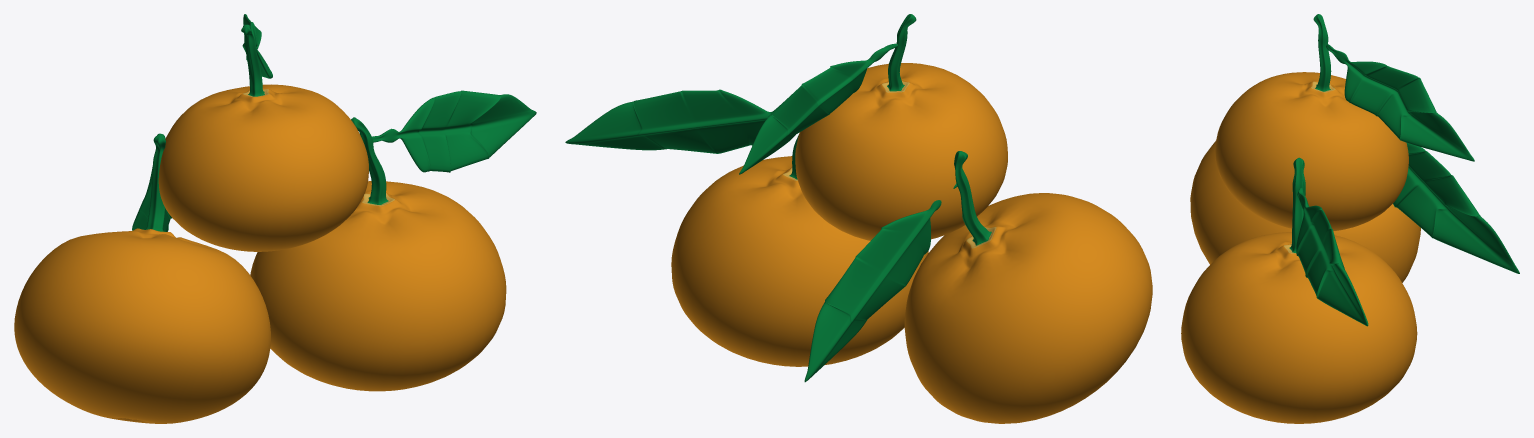
The model's file is kudamono.fbx.
The picture shows the model from 3 angles, left to right: view 1: azimuth 30°, elevation 25°; view 2: azimuth 150°, elevation 25°; view 3: azimuth 270°, elevation 25°; orthographic projection. The views are drawn at different scales.
Visible parts, largest first — view 1: Plane; view 2: Plane; view 3: Plane.
Boxes of the visible parts, x1=… form: Plane: x1=14, y1=14, x2=536, y2=423; Plane: x1=565, y1=14, x2=1152, y2=423; Plane: x1=1181, y1=14, x2=1519, y2=423.
Bounding box in the file's own units: 127 × 83.58 × 75.86.
